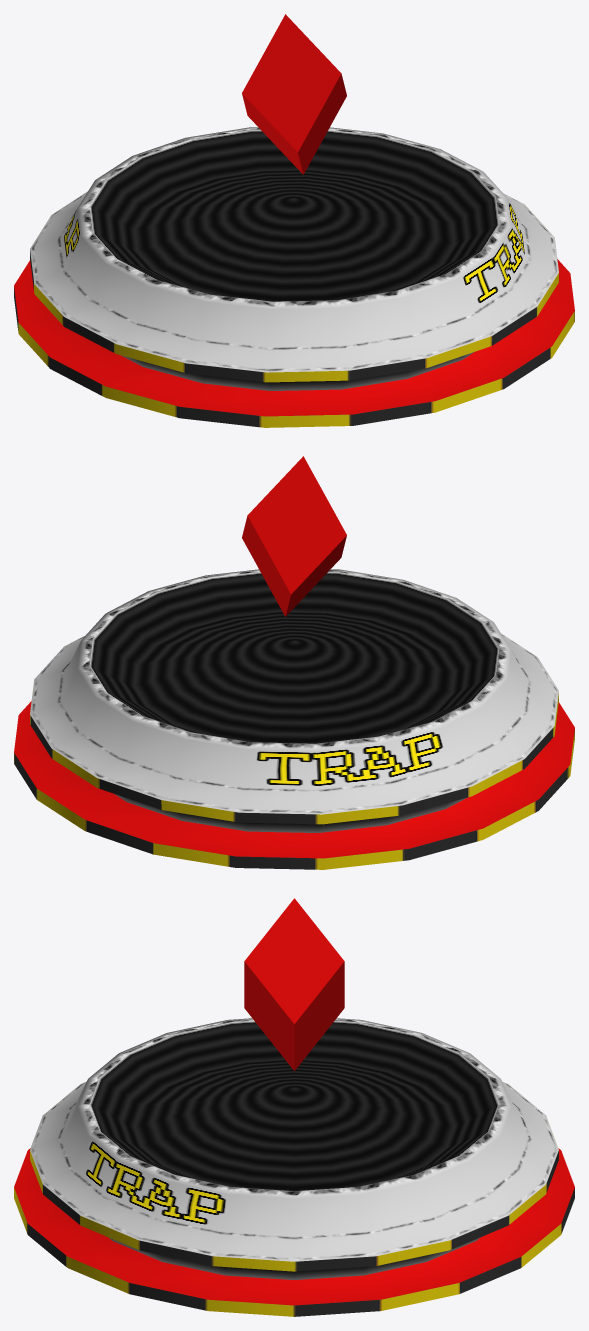
Rendered from Trap.fbx.
3 renders of one model, top to bottom at view 1: azimuth 30°, elevation 25°; view 2: azimuth 150°, elevation 25°; view 3: azimuth 270°, elevation 25°, orthographic.
Visible parts, largest first — view 1: TrapBody, polySurface2; view 2: TrapBody, polySurface2; view 3: TrapBody, polySurface2.
Boxes of the visible parts, bbox=[...] form: TrapBody: bbox=[14, 127, 574, 427]; polySurface2: bbox=[242, 14, 346, 174]; TrapBody: bbox=[14, 569, 574, 869]; polySurface2: bbox=[242, 456, 346, 616]; TrapBody: bbox=[14, 1018, 574, 1316]; polySurface2: bbox=[244, 898, 344, 1070].
Size of the model in its own units: 13.74 by 8 by 13.74.
